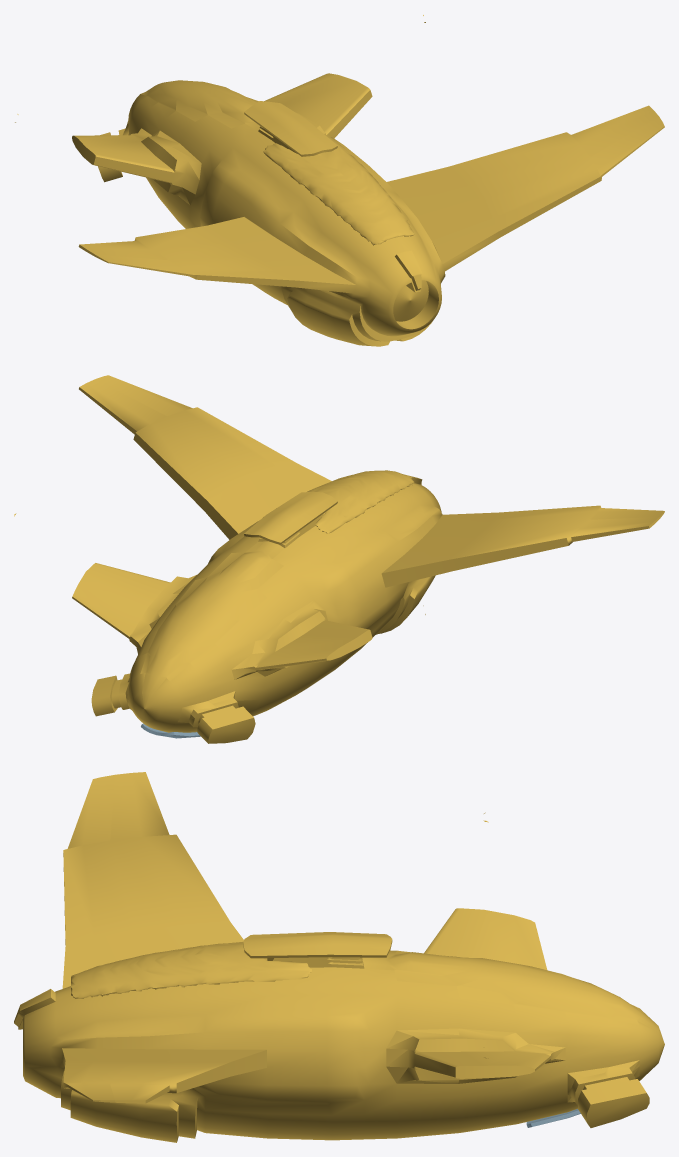
3 renders of one model, top to bottom at view 1: azimuth 30°, elevation 25°; view 2: azimuth 150°, elevation 25°; view 3: azimuth 270°, elevation 25°, orthographic. The views are drawn at different scales.
Parts seen in each view (by area): view 1: split_parent_0; view 2: split_parent_0; view 3: split_parent_0.
Part boxes in pixels (x1,y1,x2,y2): split_parent_0: (15,15,664,346); split_parent_0: (14,375,664,743); split_parent_0: (14,772,664,1142).
Size of the model in its own units: 1 by 0.2863 by 0.8356.
